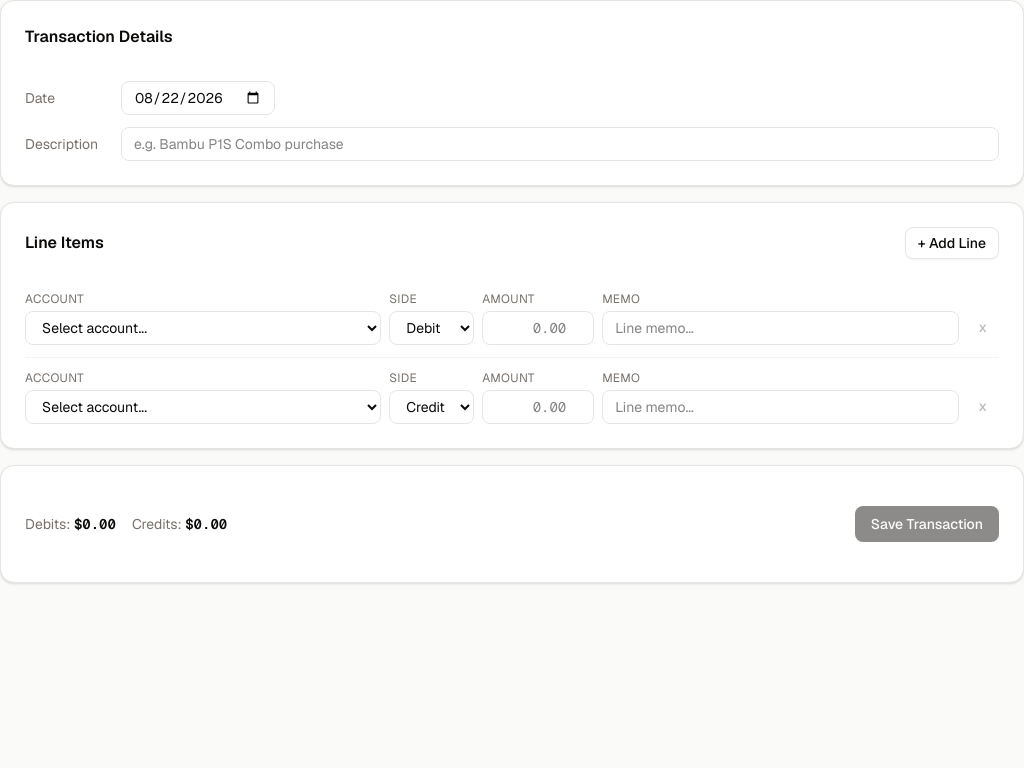
Test: TransactionForm › enables save button when entry is balanced, all fields filled, and description set
Type "Test transaction" into the field with placeholder "e.g. Bambu P1S Combo purchase" at (560, 144), box [121,127,999,161]
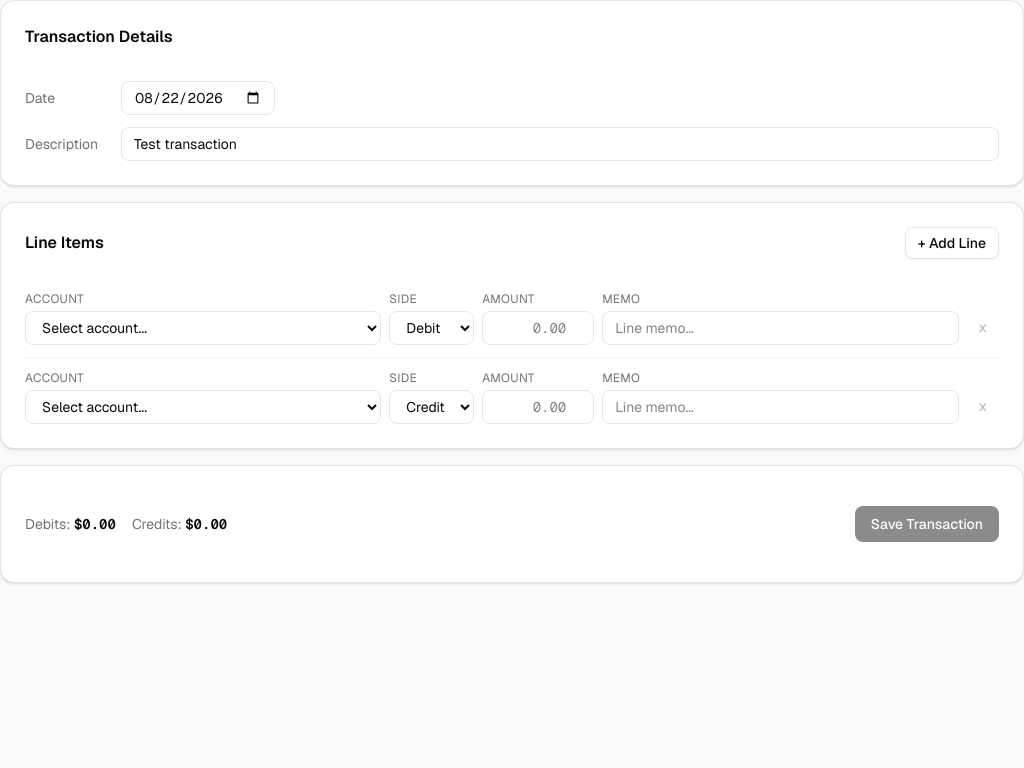
Select "5100: Filament" in the 1st dropdown at (203, 328), box [25,311,381,345]
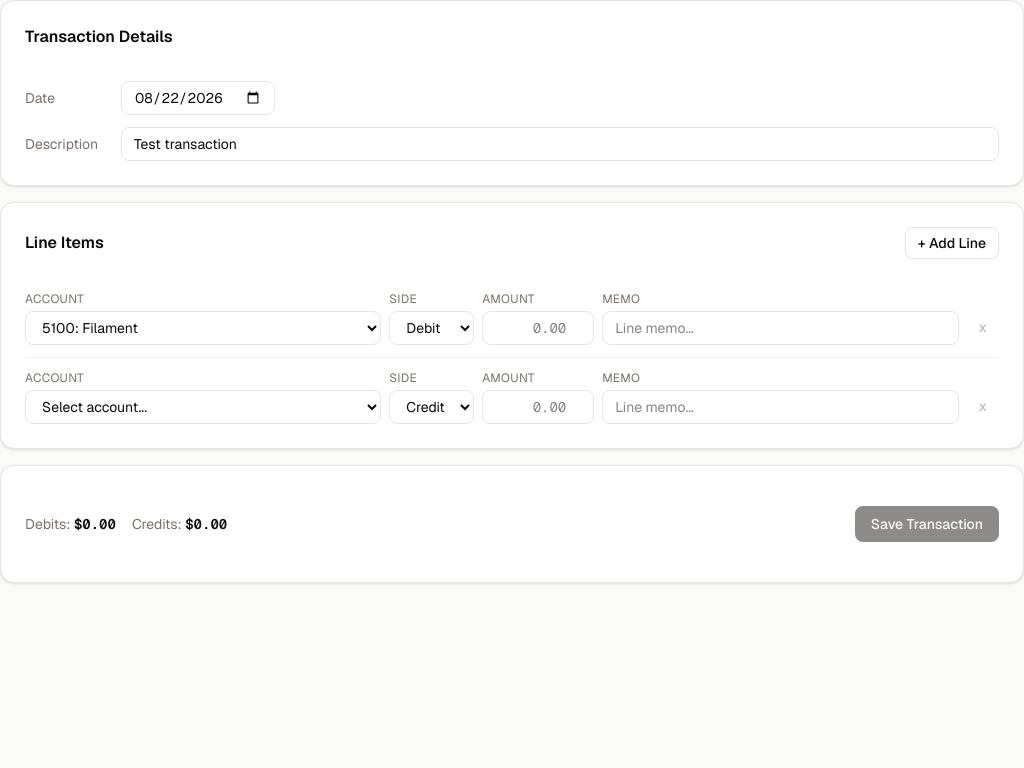
Select "1000: Cash" in the 3rd dropdown at (203, 407), box [25,390,381,424]
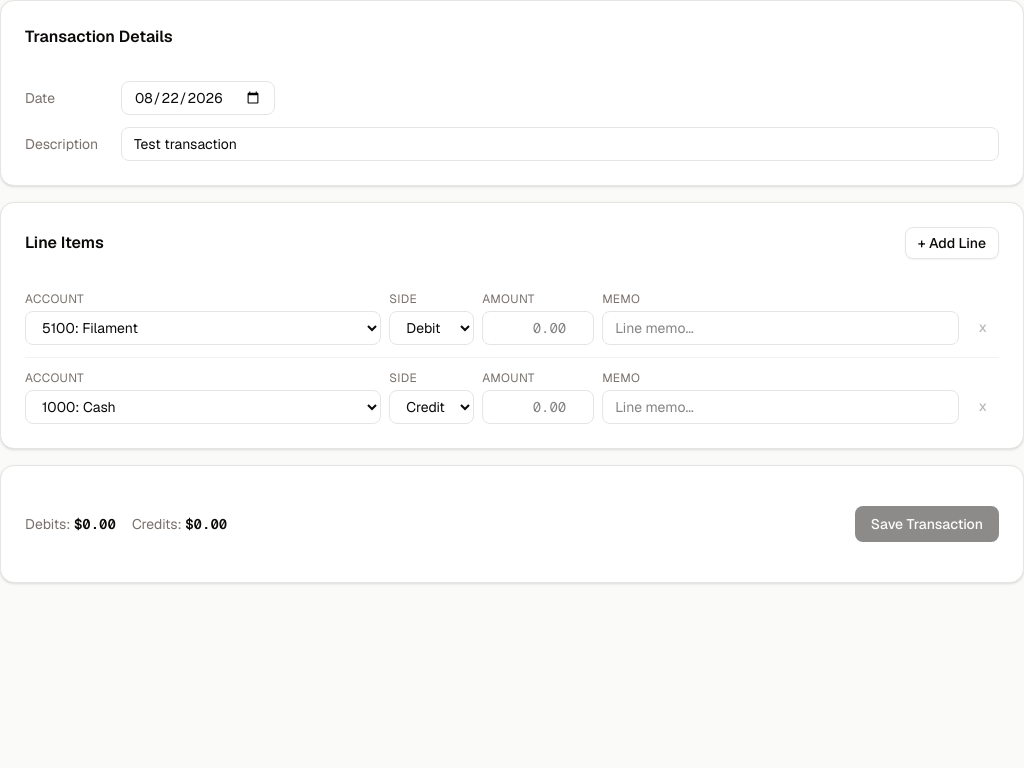
Type "10.00" into the 1st number field with placeholder "0.00" at (538, 328), box [482,311,594,345]
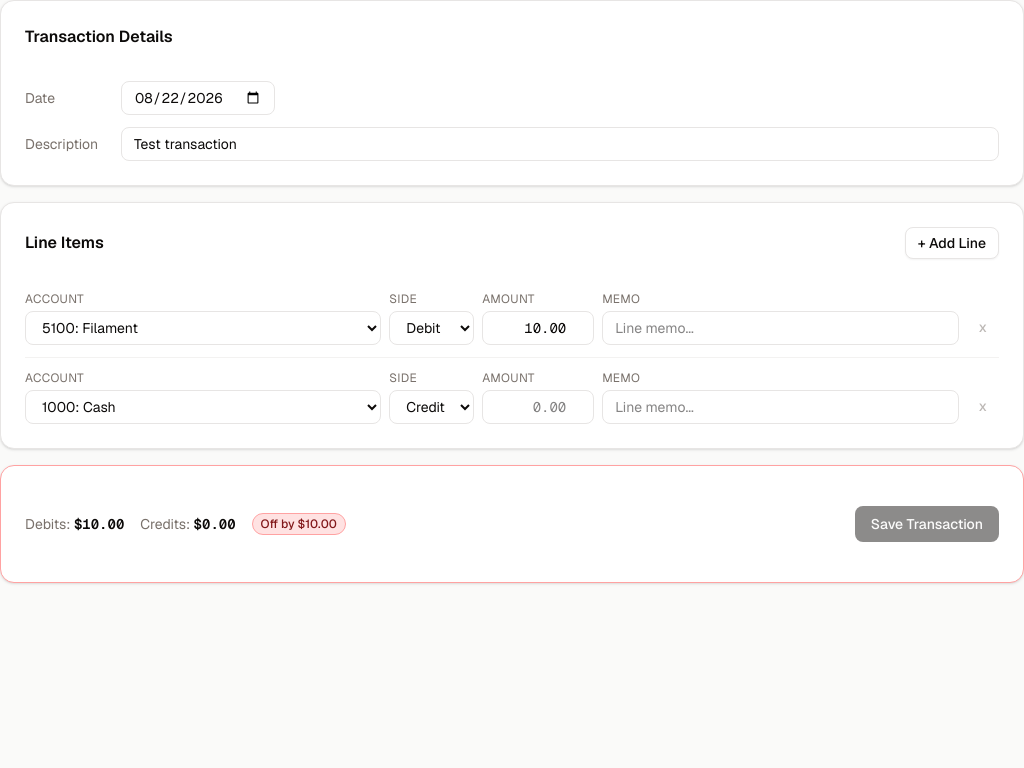
Type "10.00" into the number field with placeholder "0.00" at (538, 407), box [482,390,594,424]
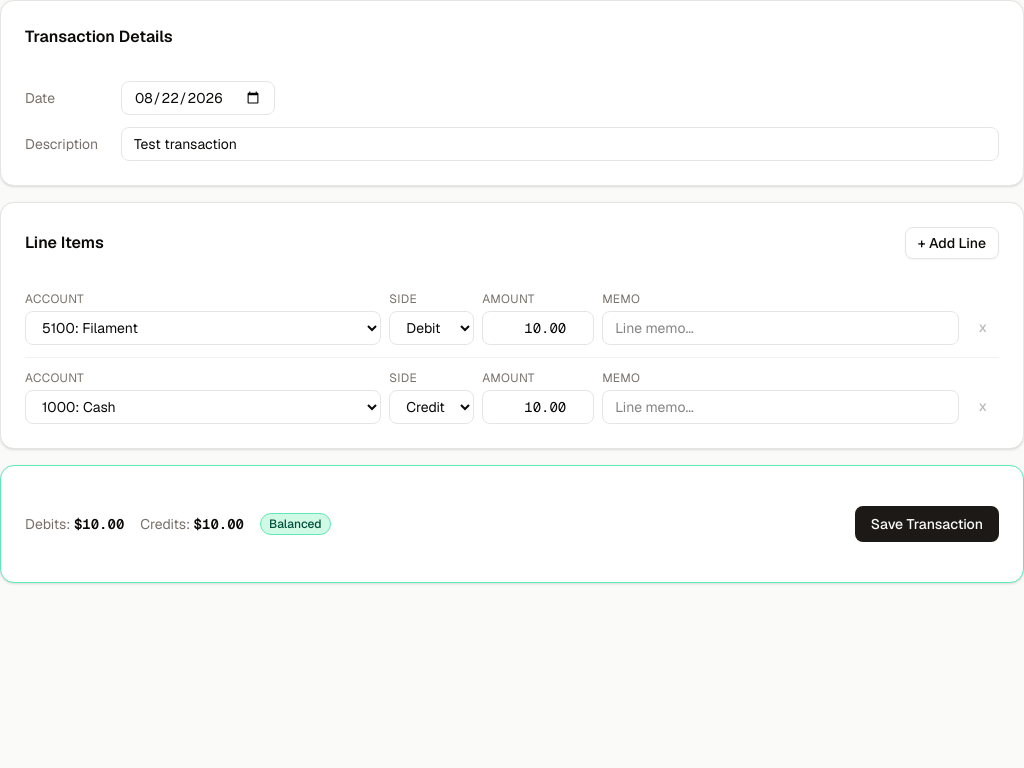
Expected: the button "Save Transaction" is enabled, [855,506,999,542]
